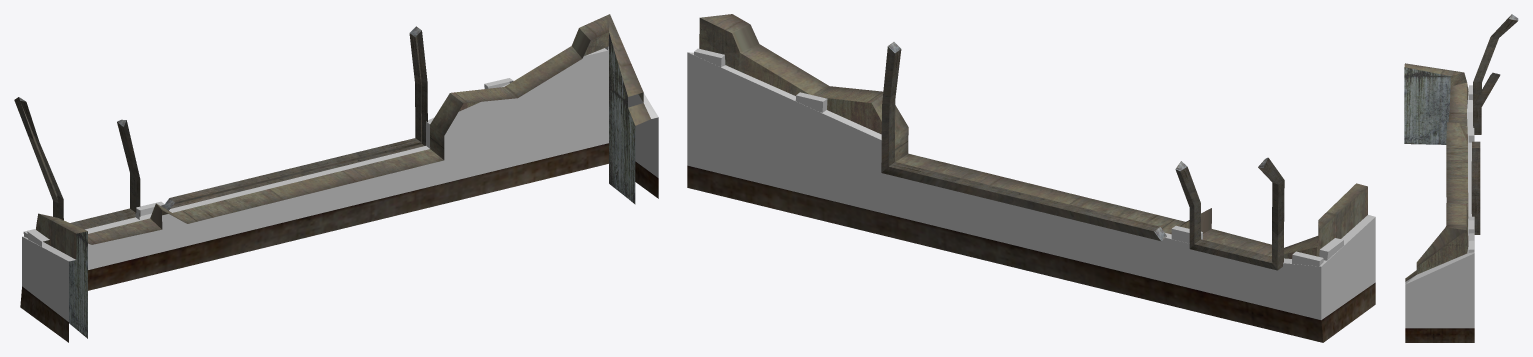
Rendered from Store_front_16_F.fbx.
3 views of the same model, side by side, from view 1: azimuth 30°, elevation 25°; view 2: azimuth 150°, elevation 25°; view 3: azimuth 270°, elevation 25° (orthographic). The views are drawn at different scales.
Visible parts, largest first — view 1: Store_front_16_F; view 2: Store_front_16_F; view 3: Store_front_16_F.
Boxes of the visible parts, x1,y1,x2,y2 form: Store_front_16_F: (14,14,658,342); Store_front_16_F: (687,14,1375,342); Store_front_16_F: (1404,14,1518,342).
Size of the model in its own units: 700 by 210 by 164.
